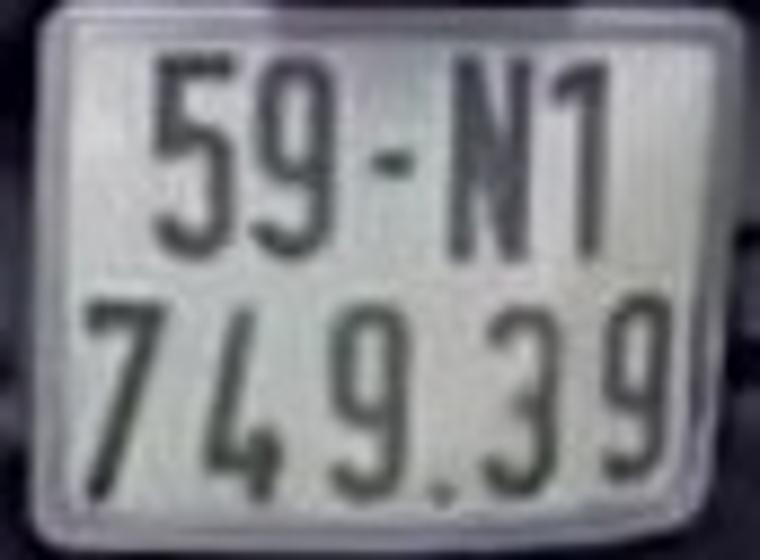-: (371, 150, 413, 191)
.: (430, 486, 461, 506)
1: (555, 56, 609, 259)
3: (489, 303, 555, 504)
4: (211, 309, 281, 503)
5: (151, 52, 237, 266)
7: (78, 294, 169, 512)
9: (319, 311, 409, 500), (253, 58, 334, 255), (602, 293, 667, 481)
N: (451, 51, 527, 264)
